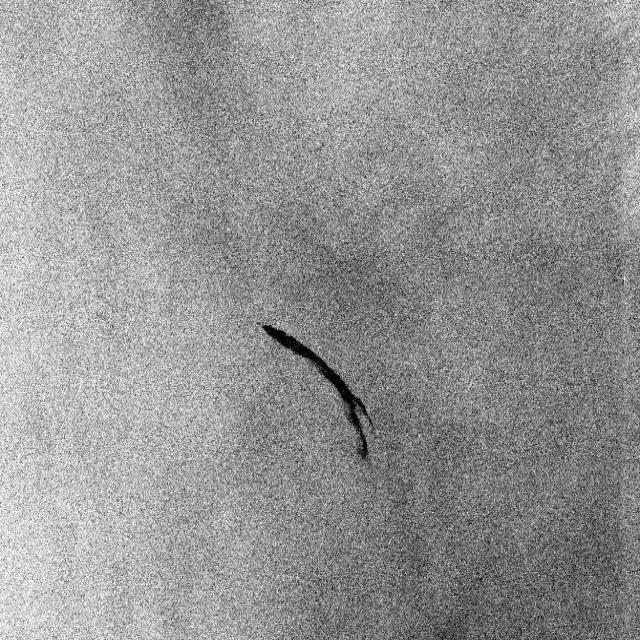oil-spill: (253, 302, 378, 473)
